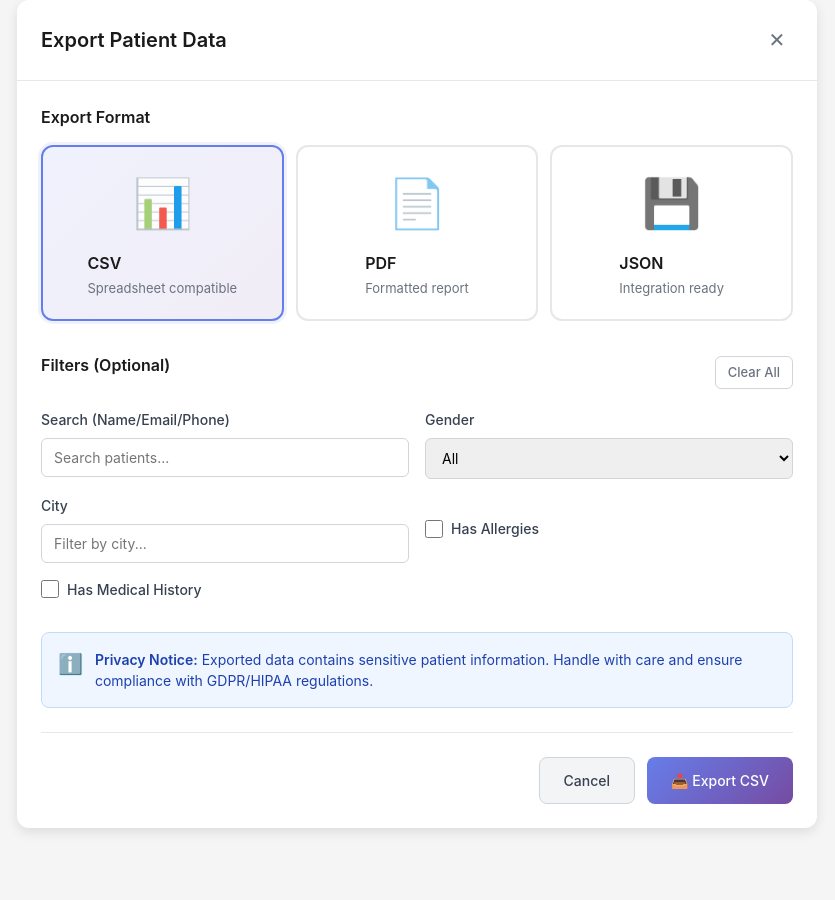
Test case: PatientExport › exports data successfully
Click the button "📥 Export CSV". click: x=720, y=780
box: [647,756,793,804]
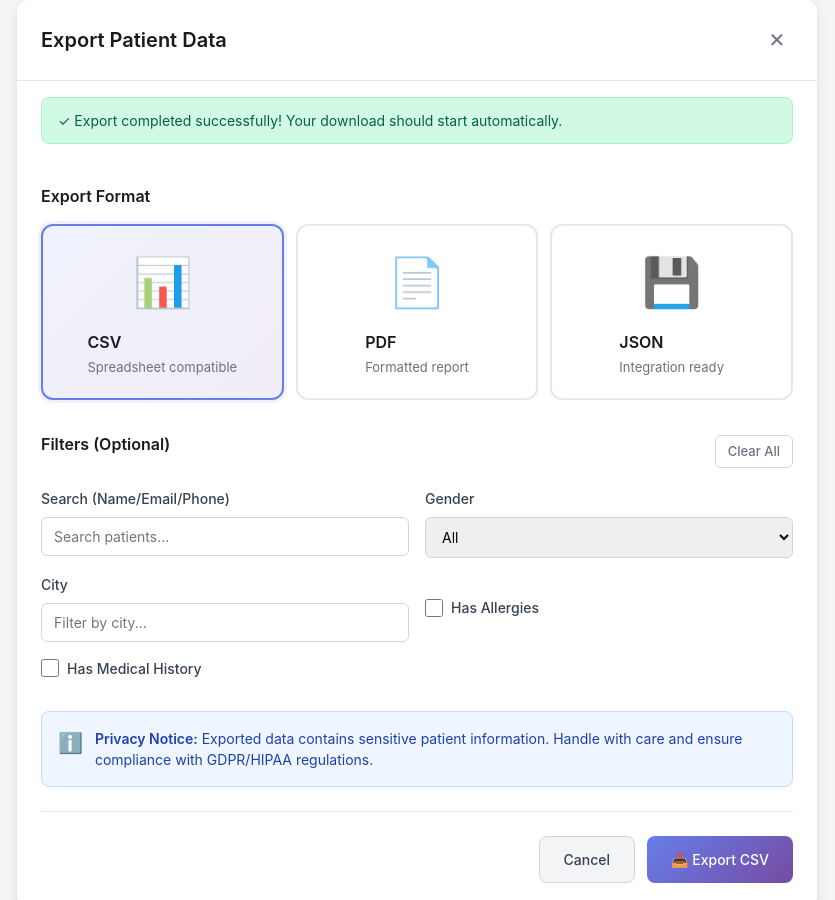
Expected: the text "Export completed successfully" is shown, [58,112,562,129]
